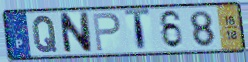6: (159, 9, 184, 50)
8: (188, 9, 218, 48)
N: (57, 11, 94, 56)
P: (91, 12, 122, 53)
Q: (31, 14, 59, 54)
T: (123, 8, 152, 54)
